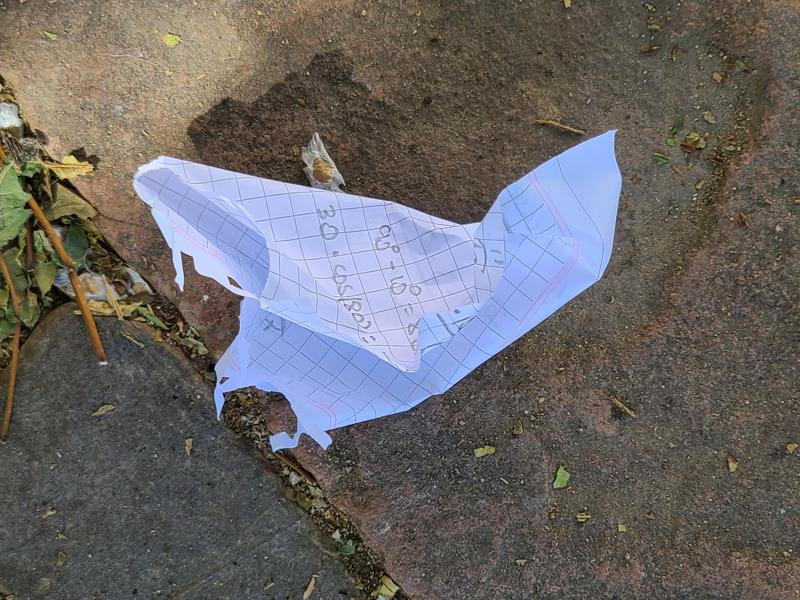papel: (131, 131, 624, 450)
